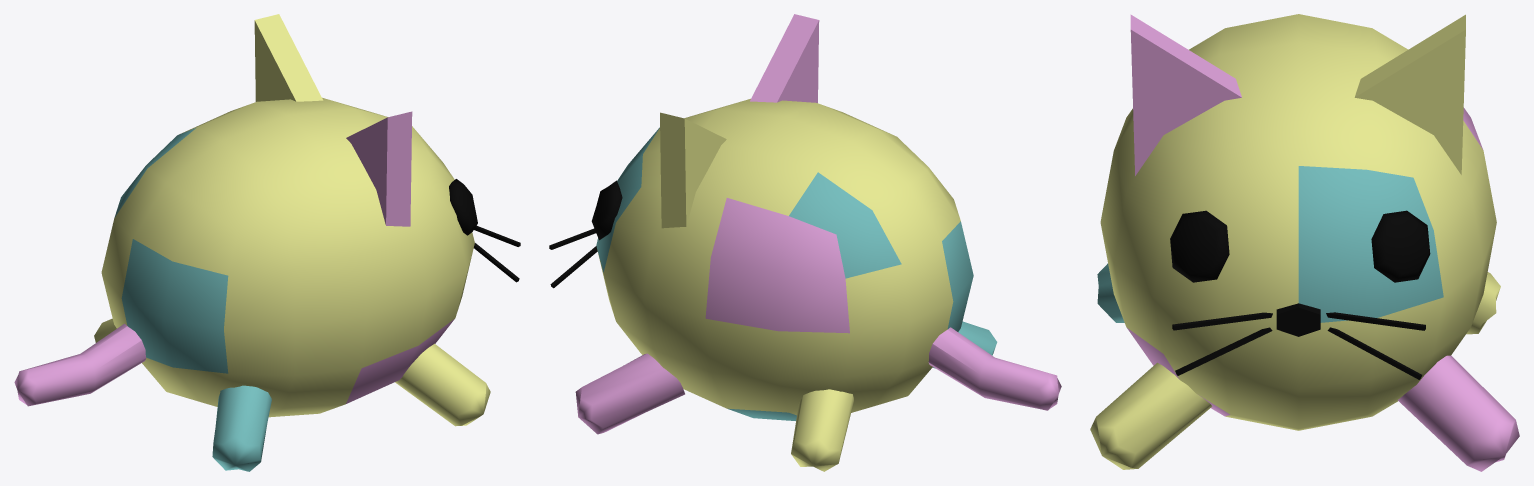
The model's file is CatPlush.fbx.
The picture shows the model from 3 angles, left to right: view 1: azimuth 30°, elevation 25°; view 2: azimuth 150°, elevation 25°; view 3: azimuth 270°, elevation 25°; orthographic projection. The views are drawn at different scales.
Parts seen in each view (by area): view 1: pCube21; view 2: pCube21; view 3: pCube21.
Part boxes in pixels (x1=…): pCube21: x1=14, y1=14, x2=520, y2=471; pCube21: x1=549, y1=14, x2=1061, y2=471; pCube21: x1=1090, y1=14, x2=1519, y2=471.
Size of the model in its own units: 2.11 by 1.44 by 1.37.
